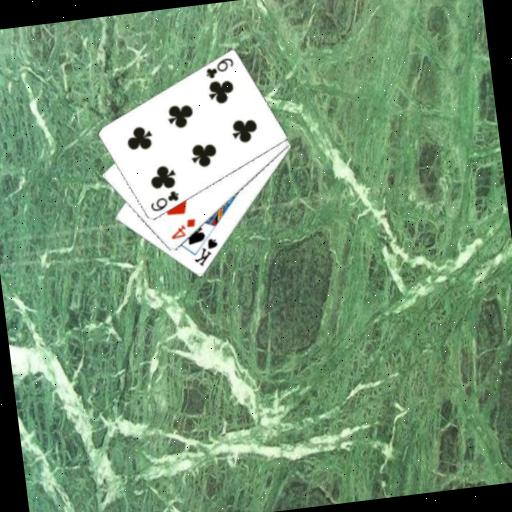4D: (166, 215, 200, 242)
6C: (146, 188, 182, 215), (201, 54, 237, 81)
KS: (188, 234, 222, 269)
